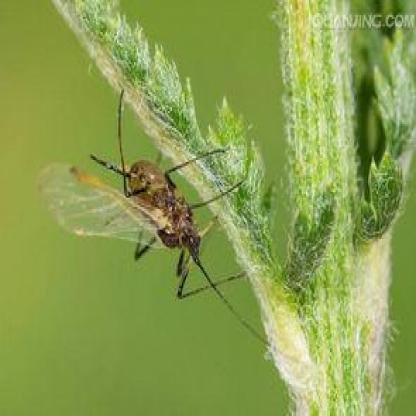aphid: (38, 96, 257, 356)
